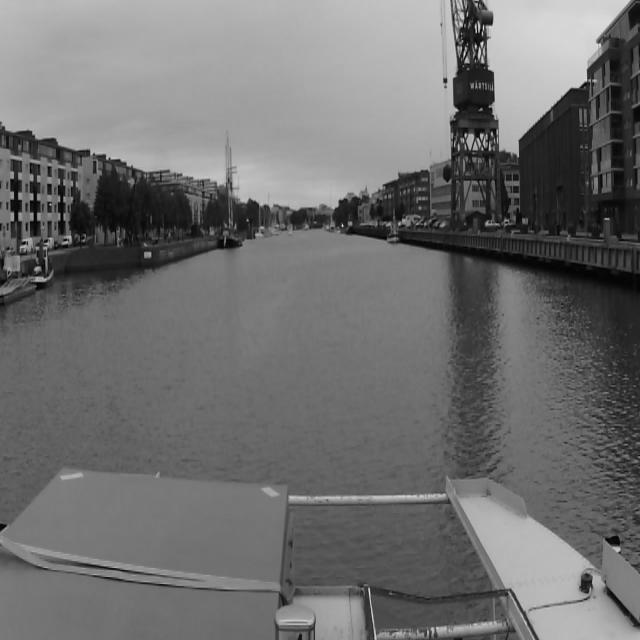ship: (220, 133, 238, 248), (30, 247, 54, 286), (388, 210, 399, 242)
